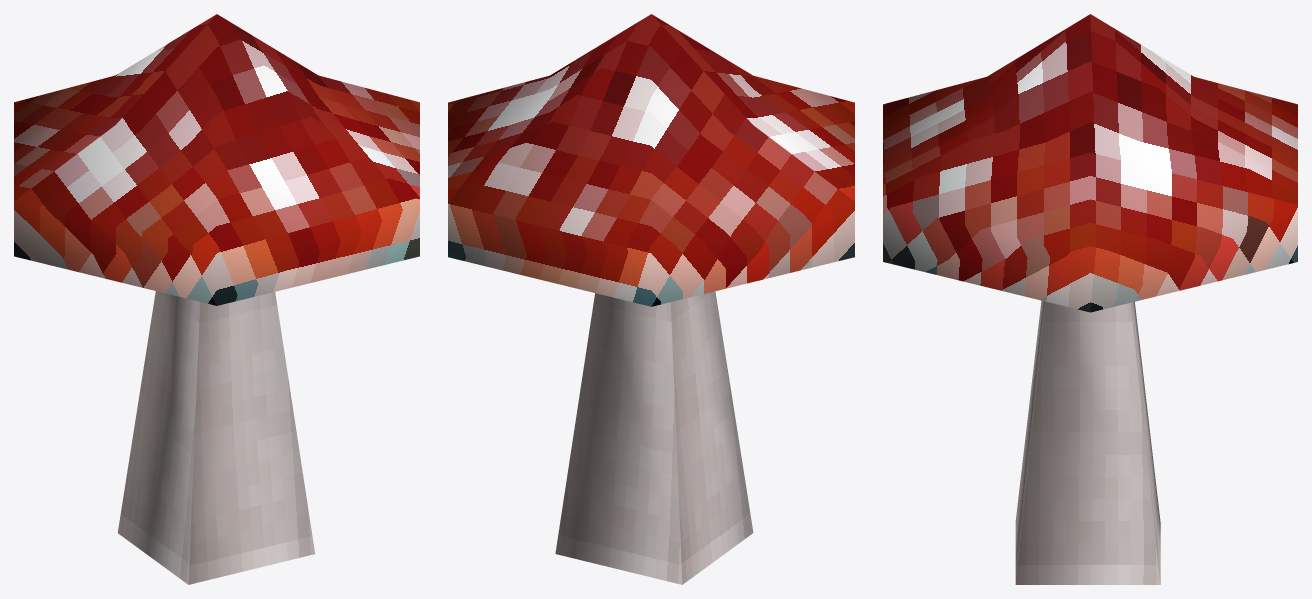
File: mushroom_b.FBX
3 renders of one model, left to right at view 1: azimuth 30°, elevation 25°; view 2: azimuth 150°, elevation 25°; view 3: azimuth 270°, elevation 25°, orthographic. The views are drawn at different scales.
Visible parts, largest first — view 1: Box002; view 2: Box002; view 3: Box002.
Part boxes in pixels (x1,y1,x2,y2): Box002: [14, 14, 419, 584]; Box002: [448, 14, 854, 584]; Box002: [883, 14, 1297, 584].
Size of the model in its own units: 19.33 by 16.74 by 24.05.
